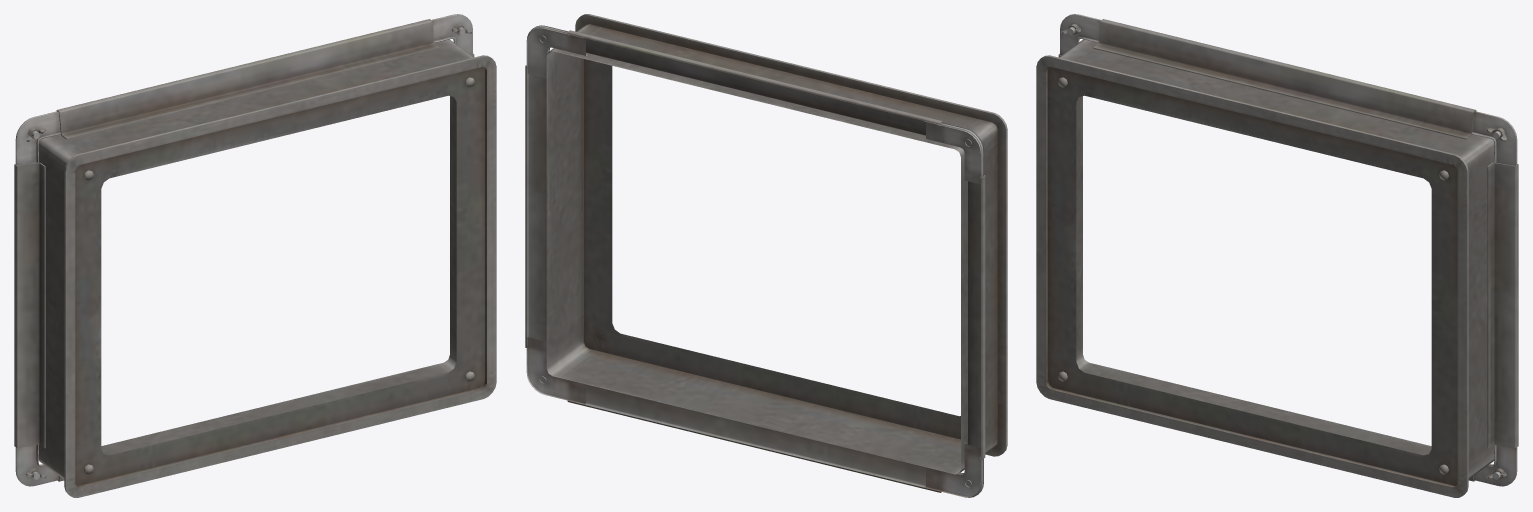
The model's file is connector_01.gltf.
The picture shows the model from 3 angles, left to right: view 1: azimuth 30°, elevation 25°; view 2: azimuth 150°, elevation 25°; view 3: azimuth 330°, elevation 25°; orthographic projection.
Visible parts, largest first — view 1: connector_01; view 2: connector_01; view 3: connector_01.
Boxes of the visible parts, x1,y1,x2,y2 form: connector_01: (14,14,496,497); connector_01: (525,14,1007,497); connector_01: (1036,14,1518,497).
Size of the model in its own units: 0.6634 by 0.5126 by 0.0964.
1 material, 1 textured.
